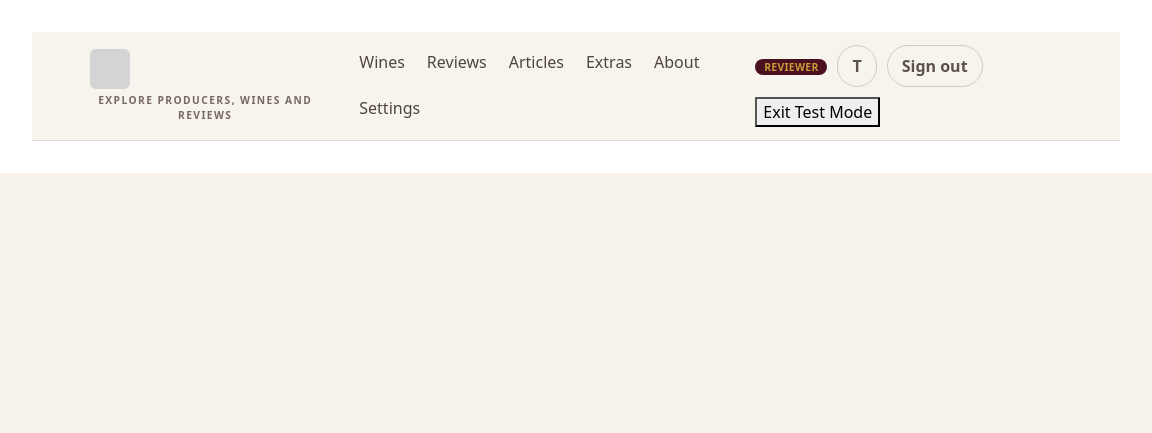
Header Analytics link › shows Analytics in Extras for Reviewer role
The width and height of the screenshot is (1152, 433).
Click the button "Extras" at (609, 63), box [582,42,636,84]
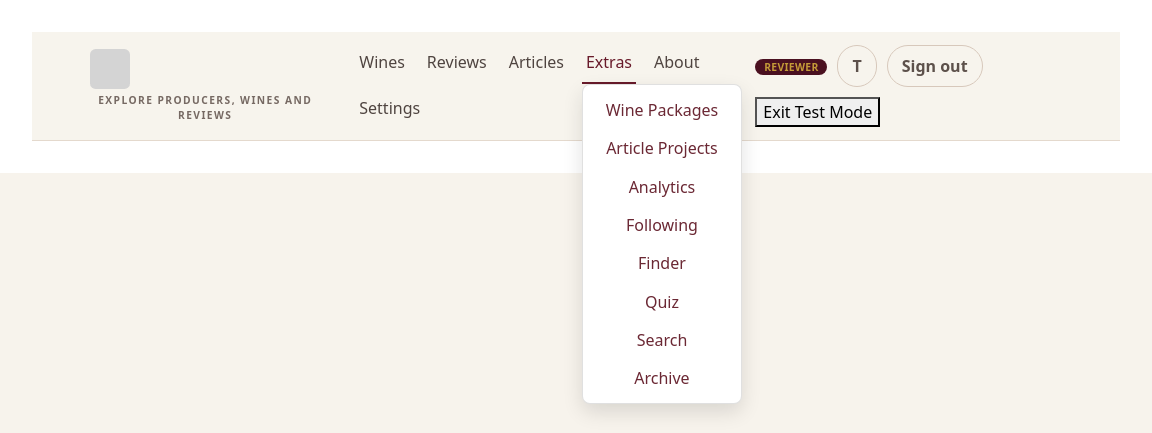
Expected: the link "Analytics" is shown, [629,176,695,198]
